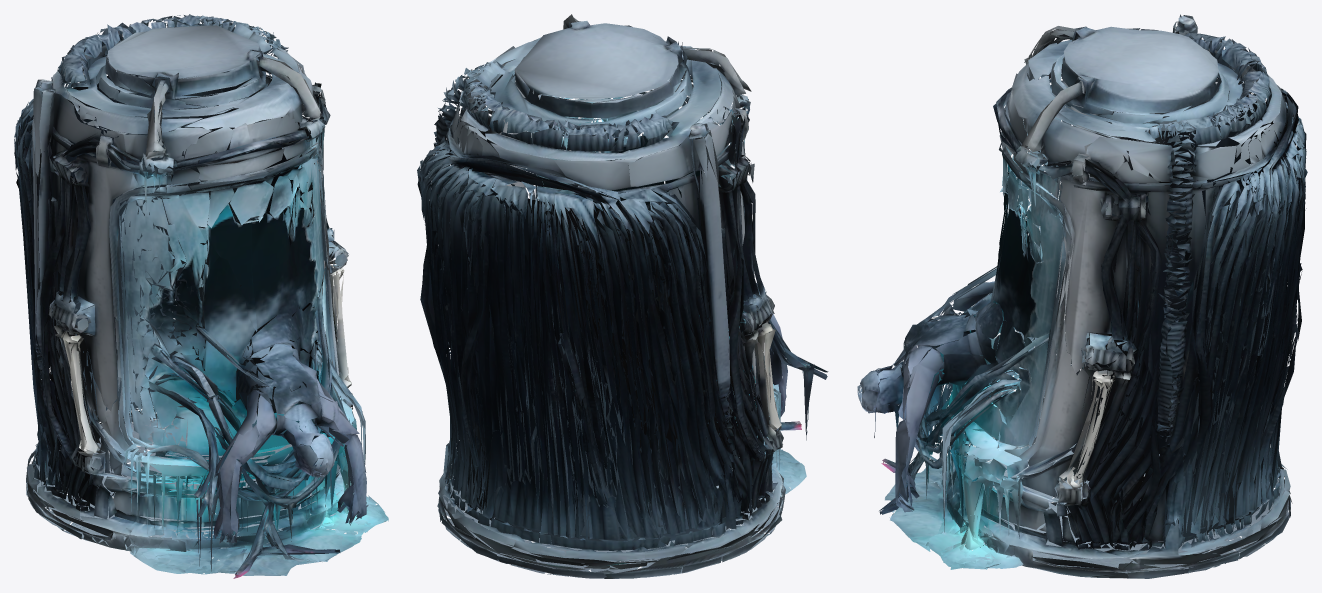
Rendered from cryo_ruptured_pod.glb.
3 renders of one model, left to right at view 1: azimuth 30°, elevation 25°; view 2: azimuth 150°, elevation 25°; view 3: azimuth 270°, elevation 25°, orthographic. The views are drawn at different scales.
Parts seen in each view (by area): view 1: node_0; view 2: node_0; view 3: node_0.
Boxes of the visible parts, <box> form: node_0: <box>14,14,388,578</box>; node_0: <box>417,14,828,578</box>; node_0: <box>857,14,1307,578</box>.
Bounding box in the file's own units: 0.6418 × 0.9387 × 0.8288.
Materials: 1 (1 with a texture image).
